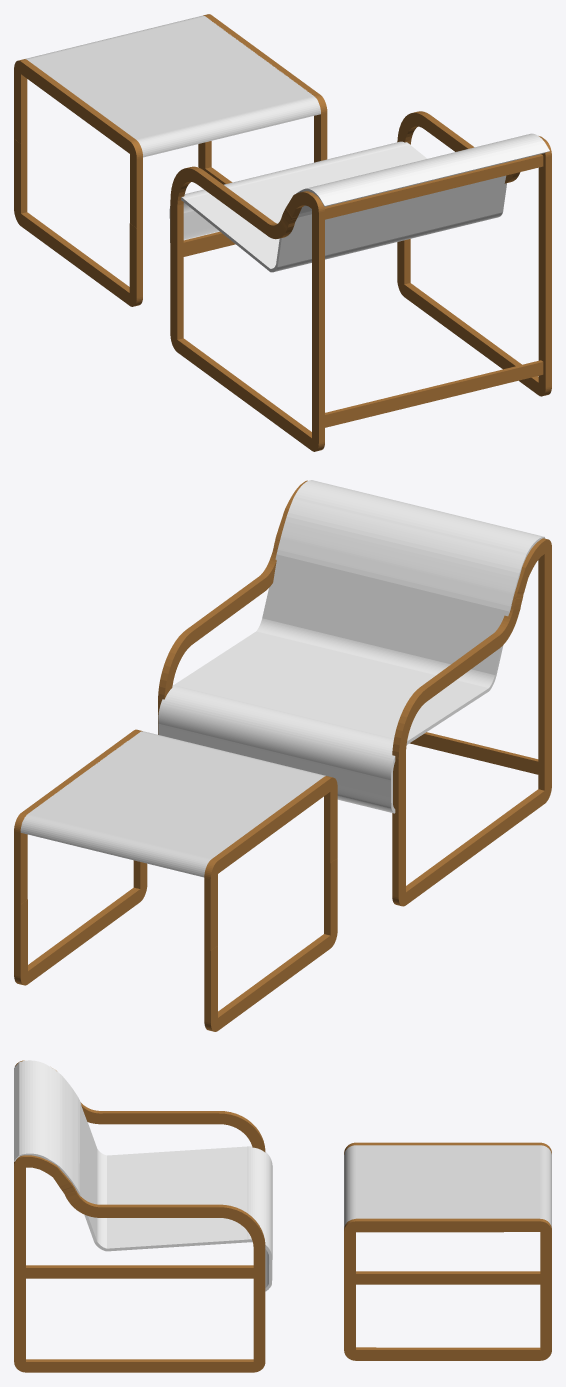
The model's file is chair.glb.
3 views of the same model, one above another, from view 1: azimuth 30°, elevation 25°; view 2: azimuth 150°, elevation 25°; view 3: azimuth 270°, elevation 25° (orthographic). The views are drawn at different scales.
Parts seen in each view (by area): view 1: Cube.001, Cube, Plane; view 2: Plane, Cube.001, Cube; view 3: Cube.001, Plane, Cube.
Part boxes in pixels (x1,y1,x2,y2): Cube.001: (14,14,327,306); Cube: (170,111,551,451); Plane: (169,133,549,272); Plane: (158,480,545,813); Cube.001: (14,729,337,1031); Cube: (158,480,551,906); Cube.001: (344,1142,551,1360); Plane: (14,1060,272,1291); Cube: (14,1060,265,1372).
Bounding box in the file's own units: 5.33 × 5.62 × 12.56.
